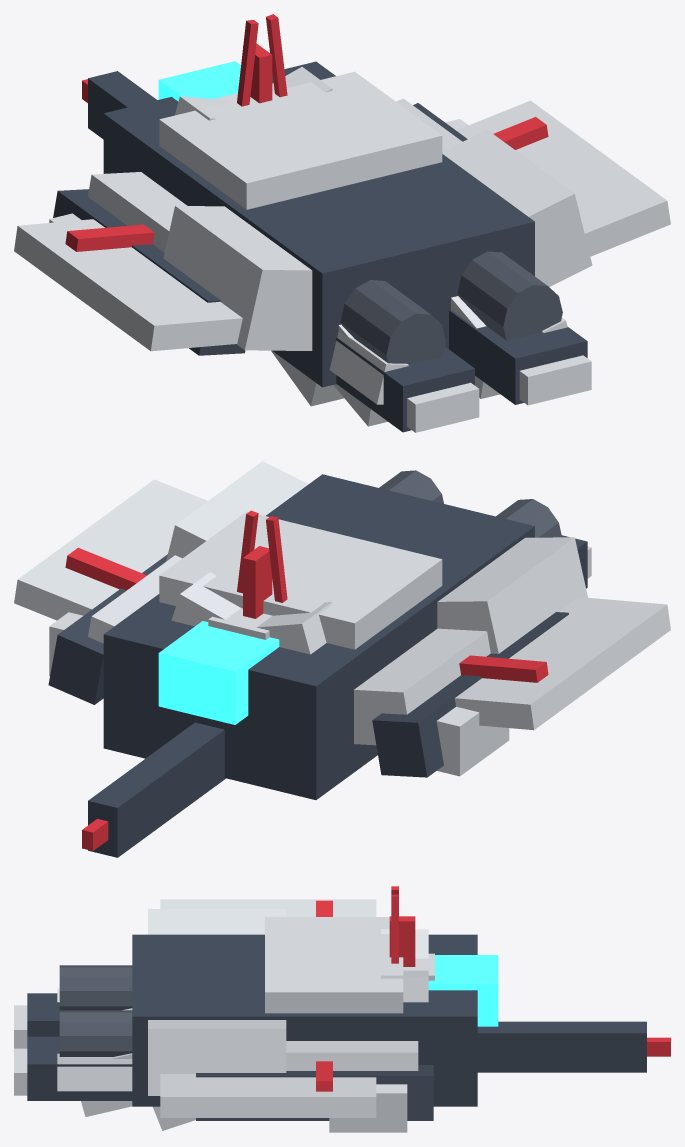
File: TransformFighter.glb
3 views of the same model, one above another, from view 1: azimuth 30°, elevation 25°; view 2: azimuth 150°, elevation 25°; view 3: azimuth 270°, elevation 25° (orthographic). The views are drawn at different scales.
Parts seen in each view (by area): view 1: Core, Chest, LeftWing, LeftShoulderPod, RightWing, RightShoulderPod, RightEngine, LeftEngine, RightFoot, LeftFoot, LeftShoulder, LeftForearm (+15 smaller); view 2: Core, Chest, LeftWing, RightWing, LeftShoulderPod, RifleBody, CockpitCanopy, LeftShoulder, LeftForearm, RightShoulderPod, RightForearm, LeftHand (+13 smaller); view 3: Core, Chest, RightWing, RifleBody, RightShoulderPod, RightShoulder, RightEngine, LeftEngine, RightForearm, LeftShoulderPod, CockpitCanopy, RightFoot (+15 smaller).
Part boxes in pixels (x1=…): Core: x1=103, y1=61, x2=534, y2=387; Chest: x1=159, y1=71, x2=442, y2=209; LeftWing: x1=14, y1=219, x2=242, y2=351; LeftShoulderPod: x1=163, y1=205, x2=312, y2=350; RightWing: x1=456, y1=100, x2=670, y2=256; RightShoulderPod: x1=442, y1=130, x2=592, y2=286; RightEngine: x1=457, y1=251, x2=562, y2=340; LeftEngine: x1=340, y1=280, x2=445, y2=364; RightFoot: x1=449, y1=309, x2=587, y2=404; LeftFoot: x1=336, y1=337, x2=474, y2=432; LeftShoulder: x1=88, y1=172, x2=187, y2=252; LeftForearm: x1=53, y1=189, x2=245, y2=355; Core: x1=103, y1=474, x2=534, y2=799; Chest: x1=159, y1=511, x2=442, y2=649; LeftWing: x1=454, y1=597, x2=670, y2=730; RightWing: x1=14, y1=479, x2=207, y2=620; LeftShoulderPod: x1=437, y1=537, x2=587, y2=653; RifleBody: x1=88, y1=722, x2=225, y2=857; CockpitCanopy: x1=158, y1=621, x2=279, y2=724; LeftShoulder: x1=354, y1=628, x2=490, y2=745; LeftForearm: x1=372, y1=612, x2=568, y2=777; RightShoulderPod: x1=166, y1=461, x2=308, y2=561; RightForearm: x1=48, y1=554, x2=167, y2=704; LeftHand: x1=436, y1=706, x2=509, y2=776; Core: x1=132, y1=934, x2=477, y2=1106; Chest: x1=265, y1=917, x2=403, y2=1013; RightWing: x1=160, y1=1074, x2=376, y2=1117; RifleBody: x1=477, y1=1021, x2=646, y2=1072; RightShoulderPod: x1=148, y1=1020, x2=286, y2=1095; RightShoulder: x1=286, y1=1041, x2=418, y2=1070; RightEngine: x1=59, y1=1010, x2=132, y2=1056; LeftEngine: x1=59, y1=965, x2=132, y2=1010; RightForearm: x1=196, y1=1065, x2=433, y2=1120; LeftShoulderPod: x1=148, y1=909, x2=286, y2=934; CockpitCanopy: x1=428, y1=955, x2=498, y2=1026; RightFoot: x1=27, y1=1036, x2=132, y2=1100.
Size of what is drawn, in the model's own units: 1.37 by 0.6424 by 1.9.
